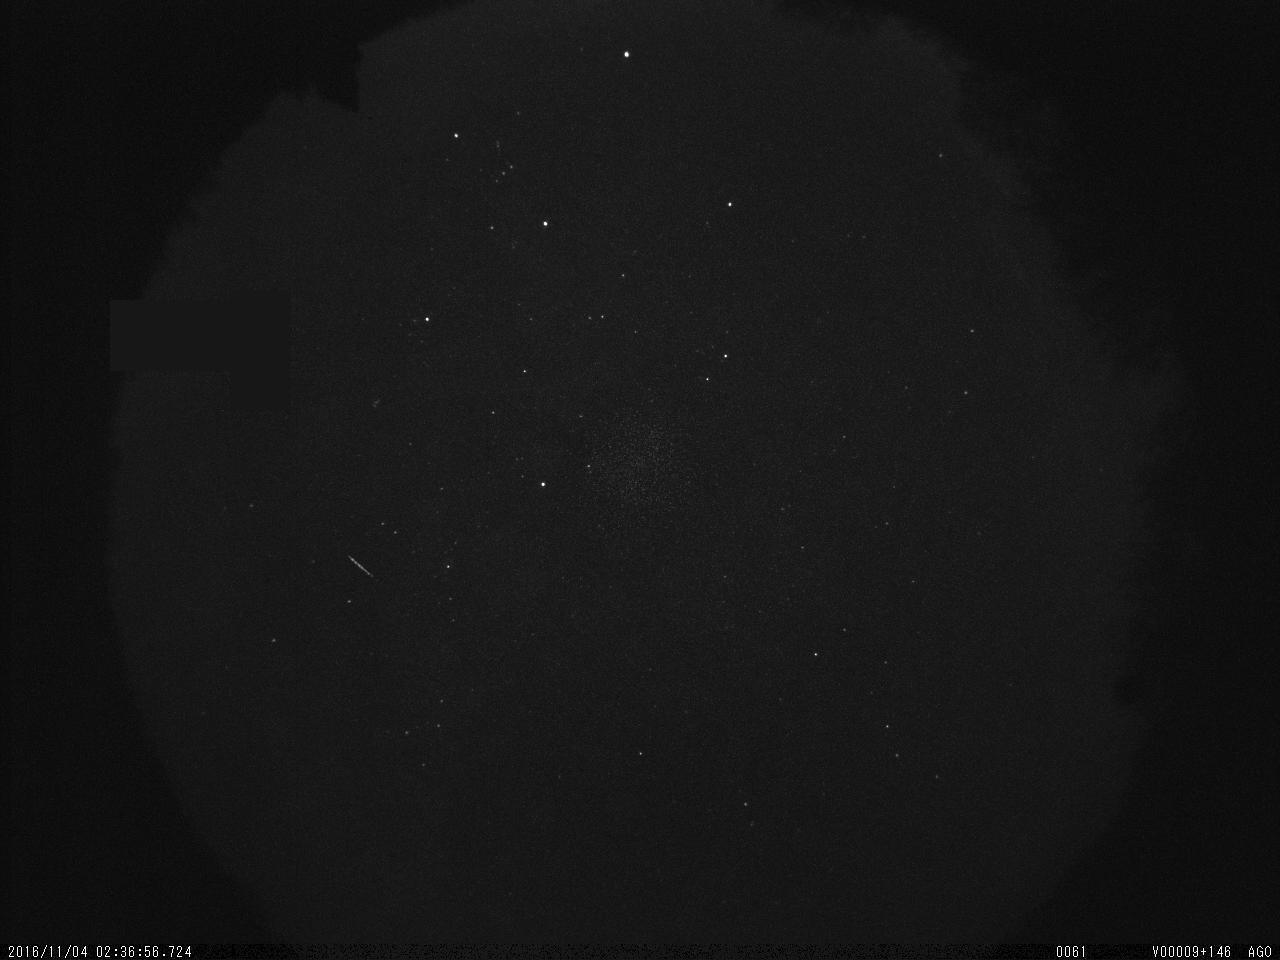Meteor: (345, 550, 378, 585)
